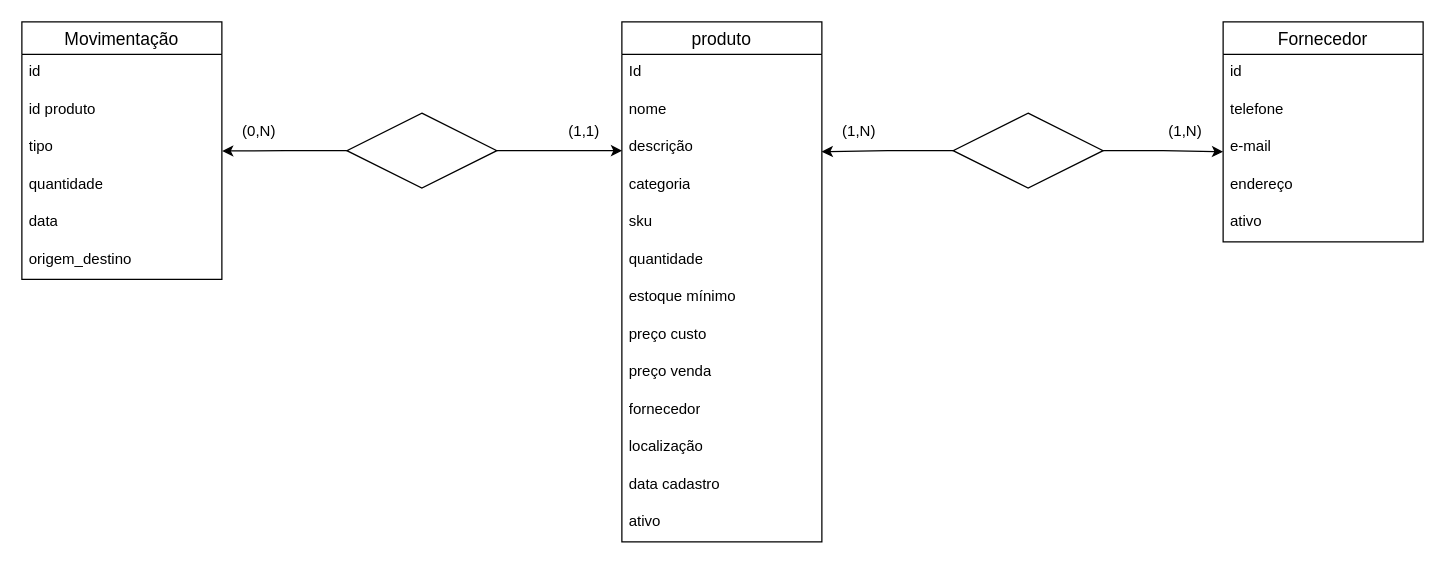
Some shapes in this 1445 by 568 pixel diagram are drawn without their labels. Each missing label, with the centre of its shape:
Pussui: (421,150)
Tem: (1027,150)
